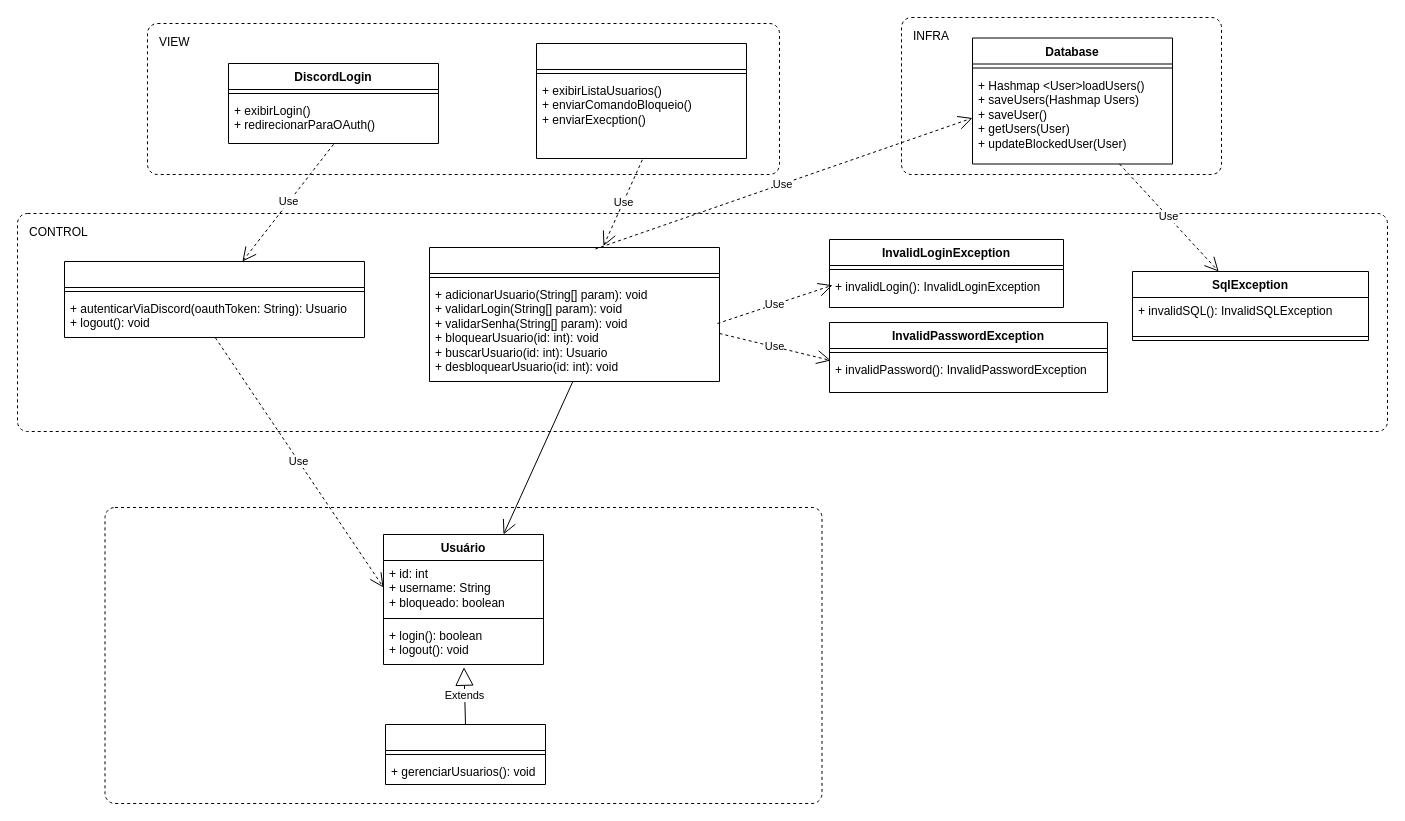
Image size: 1405x821. Some labels were removed from this diagram. Each missing label, with the box of its shape:
Administrador: (384, 724, 546, 784)
AdminPanel: (536, 42, 746, 158)
AuthController: (64, 260, 364, 338)
MODEL: (104, 506, 822, 804)
UserController: (428, 246, 720, 382)
